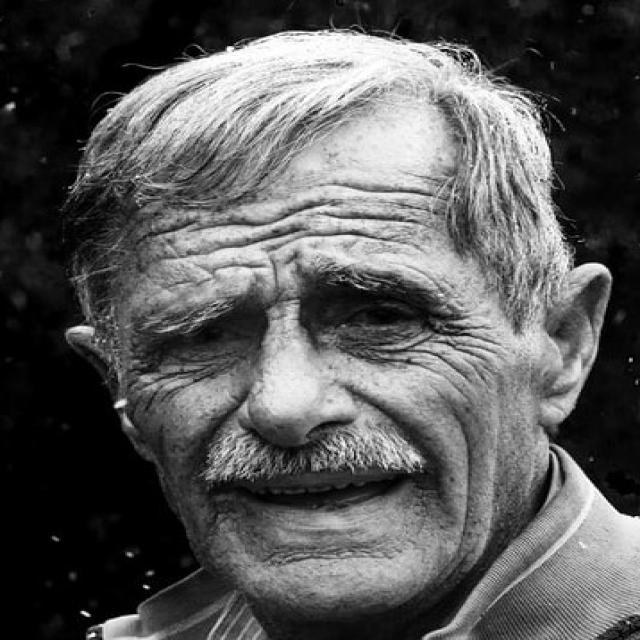Wrinkles: (269, 230, 431, 257), (189, 201, 331, 231), (456, 413, 472, 557), (137, 220, 198, 245), (317, 183, 431, 196), (329, 215, 418, 223), (210, 265, 265, 277), (441, 358, 469, 381), (257, 229, 305, 241), (151, 256, 190, 264), (270, 259, 277, 295), (196, 277, 210, 285), (398, 205, 424, 208), (427, 209, 440, 214), (432, 353, 441, 358), (415, 351, 432, 353), (407, 350, 415, 351)
